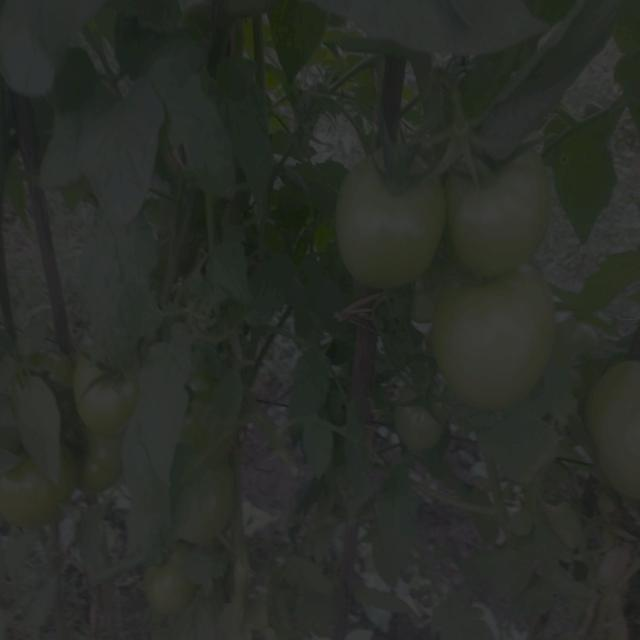tomato: (345, 151, 445, 292), (452, 288, 558, 412), (455, 156, 548, 270), (592, 351, 640, 535), (70, 359, 144, 437), (183, 378, 250, 457), (176, 463, 241, 542), (382, 399, 447, 467), (137, 556, 200, 622), (3, 461, 58, 530), (82, 442, 128, 492), (189, 1, 226, 37)
